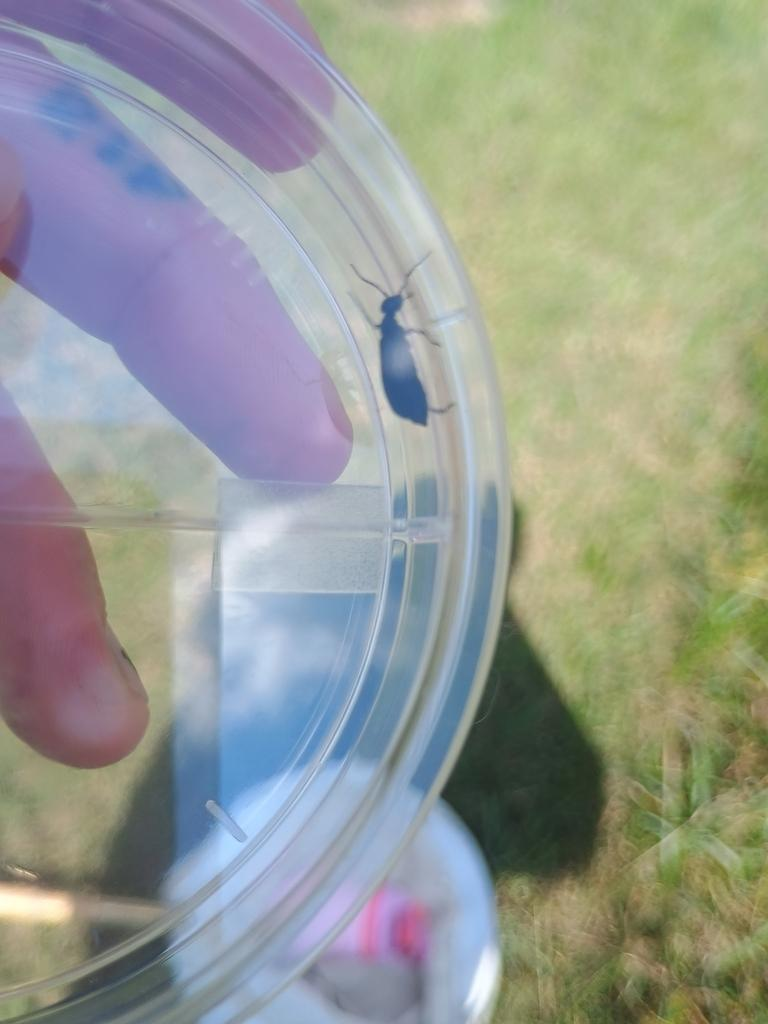blister_beetle: (291, 198, 526, 502)
